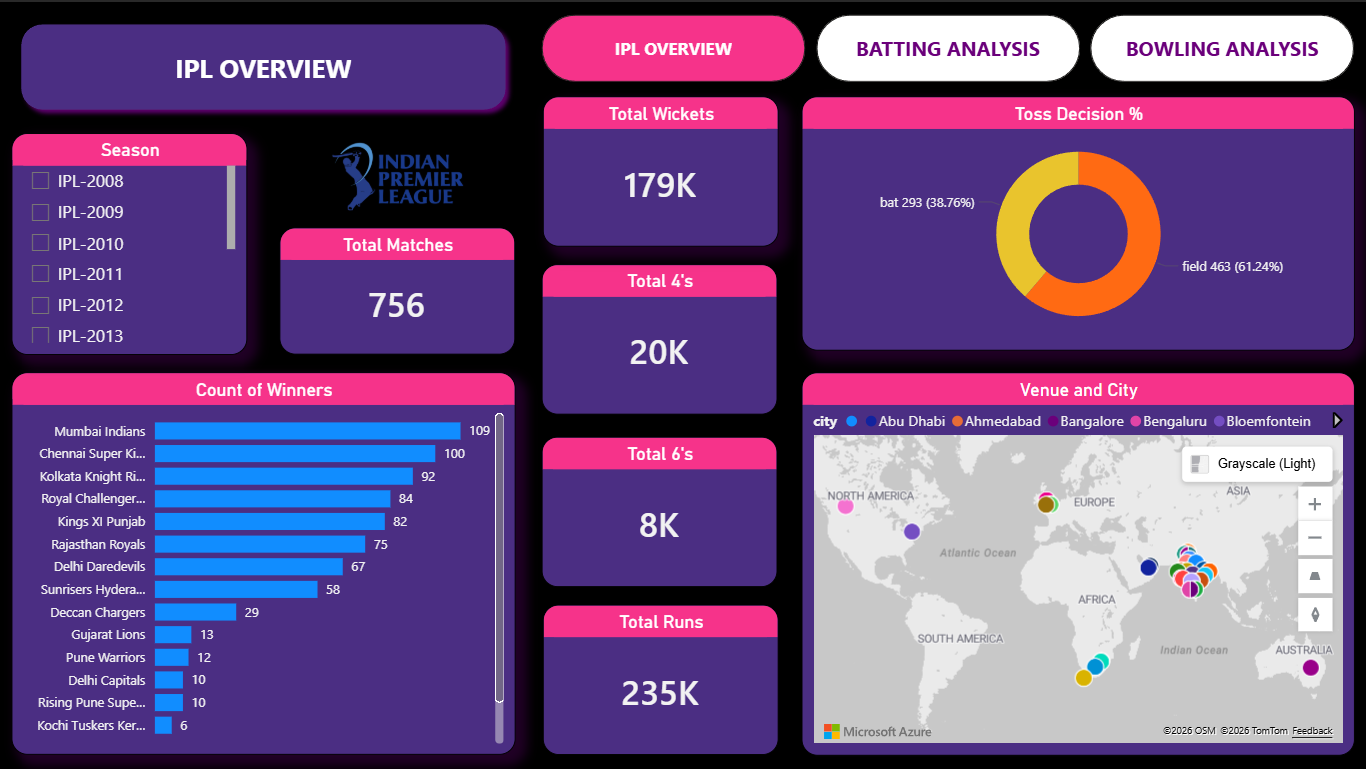

This screenshot's page, from the dashboard's own definition file:
{"tool":"powerbi","page":{"name":"IPL OVERVIEW","canvas":[1280,720],"ordinal":0},"visuals":[{"type":"barChart","title":"Count of Winners","fields":{"Category":["matches.winner"],"Y":["matches.id"]},"box":[10.8,346.8,471.8,358.7],"z":0},{"type":"azureMap","title":"Venue and City","fields":{"Category":["matches.venue"],"Series":["matches.city"]},"box":[751,346.7,518.3,358.7],"z":1000},{"type":"donutChart","title":"Toss Decision %","fields":{"Category":["matches.toss_decision"],"Y":["matches.toss_decision"]},"box":[750.8,88.3,518.1,238.1],"z":2000},{"type":"cardVisual","title":"Total Matches","fields":{"Data":["Measures (2).Total_Matches"]},"box":[261.8,211.1,220.8,119.6],"z":3000},{"type":"cardVisual","title":"Total Runs","fields":{"Data":["Measures (2).Total_Runs"]},"box":[508.4,564.4,220.8,141.1],"z":4000},{"type":"cardVisual","title":"Total 6''s","fields":{"Data":["Measures (2).Total_6s"]},"box":[507.3,407.2,220.8,141.1],"z":5000},{"type":"cardVisual","title":"Total 4''s","fields":{"Data":["Measures (2).Total_4s"]},"box":[507.3,245.6,220.8,141.1],"z":6000},{"type":"cardVisual","title":"Total Wickets","fields":{"Data":["Measures (2).Total_wickets"]},"box":[508.4,88.3,220.8,141.1],"z":7000},{"type":"slicer","title":"Season","fields":{"Values":["matches.Season"]},"box":[10.8,122.8,220.8,207.9],"z":8000},{"type":"pageNavigator","box":[507.3,11.8,761.6,63.6],"z":9000},{"type":"shape","box":[10.8,11.8,471.8,98],"z":10000},{"type":"image","box":[275.8,88.3,193.9,150.8],"z":11000}]}

Visuals, with their boxes in screenshot pixels (x1, y1, x2, y2), scaled from the page's 1280x720 canvas onto the 1366x769 screenshot:
"Count of Winners" barChart: (left=12, top=370, right=515, bottom=754)
"Venue and City" azureMap: (left=801, top=370, right=1355, bottom=753)
"Toss Decision %" donutChart: (left=801, top=94, right=1354, bottom=349)
"Total Matches" cardVisual: (left=279, top=225, right=515, bottom=353)
"Total Runs" cardVisual: (left=543, top=603, right=778, bottom=754)
"Total 6''s" cardVisual: (left=541, top=435, right=777, bottom=586)
"Total 4''s" cardVisual: (left=541, top=262, right=777, bottom=413)
"Total Wickets" cardVisual: (left=543, top=94, right=778, bottom=245)
"Season" slicer: (left=12, top=131, right=247, bottom=353)
pageNavigator: (left=541, top=13, right=1354, bottom=81)
shape: (left=12, top=13, right=515, bottom=117)
image: (left=294, top=94, right=501, bottom=255)
